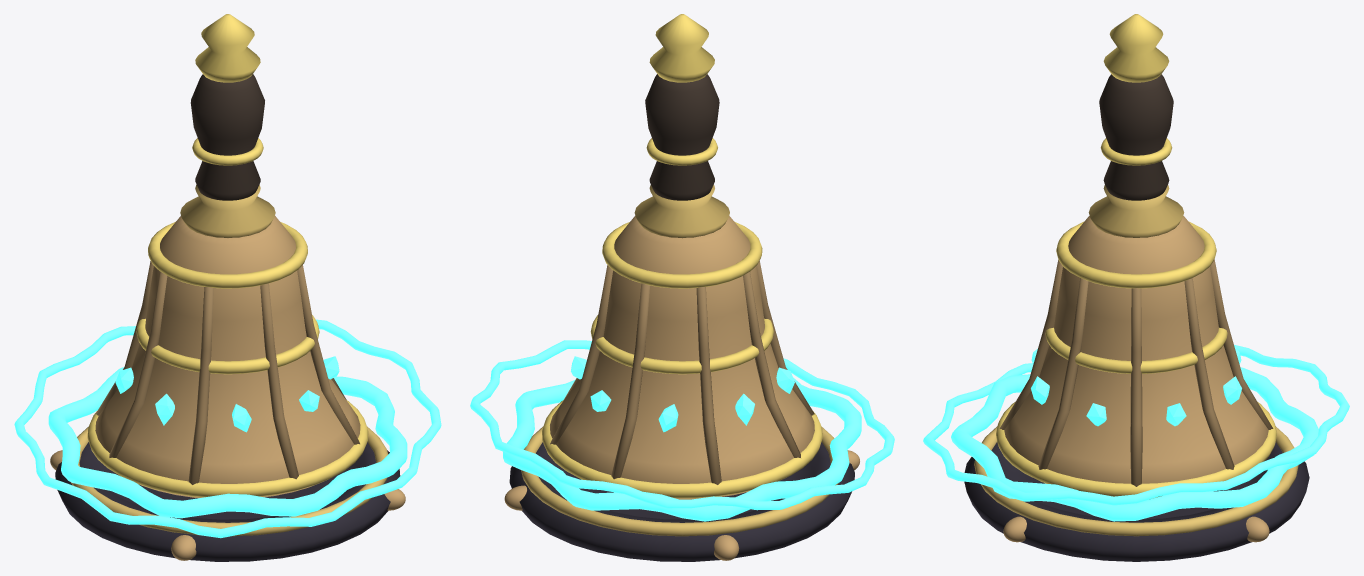
The model's file is TRELIC_SOUL_BELL.glb.
The picture shows the model from 3 angles, left to right: view 1: azimuth 30°, elevation 25°; view 2: azimuth 150°, elevation 25°; view 3: azimuth 270°, elevation 25°; orthographic projection.
Visible parts, largest first — view 1: BellSkirtBody, AcousticBase, ReiatsuSoundRingMain, ReiatsuSoundRingOuter, EbonyHandle, BellRimBead, BronzeNeckCollar, HandleFinial, BellCrownCollar, BaseBrassInlay, BellWaistBead, BellRib_5 (+6 smaller); view 2: BellSkirtBody, AcousticBase, ReiatsuSoundRingMain, ReiatsuSoundRingOuter, EbonyHandle, BaseBrassInlay, BellRimBead, BronzeNeckCollar, HandleFinial, BellCrownCollar, BellWaistBead, BellRib_3 (+6 smaller); view 3: BellSkirtBody, AcousticBase, ReiatsuSoundRingMain, EbonyHandle, ReiatsuSoundRingOuter, BaseBrassInlay, BellRimBead, BronzeNeckCollar, HandleFinial, BellCrownCollar, BellWaistBead, BellRib_0 (+5 smaller).
Boxes of the visible parts, left/top/right/bottom form: BellSkirtBody: left=95, top=216, right=360, bottom=498; AcousticBase: left=55, top=442, right=400, bottom=561; ReiatsuSoundRingMain: left=48, top=367, right=407, bottom=518; ReiatsuSoundRingOuter: left=14, top=319, right=441, bottom=538; EbonyHandle: left=190, top=74, right=264, bottom=200; BellRimBead: left=87, top=400, right=368, bottom=497; BronzeNeckCollar: left=180, top=185, right=275, bottom=237; HandleFinial: left=195, top=14, right=260, bottom=82; BellCrownCollar: left=148, top=221, right=307, bottom=288; BaseBrassInlay: left=71, top=426, right=388, bottom=536; BellWaistBead: left=136, top=315, right=319, bottom=374; BellRib_5: left=188, top=287, right=213, bottom=484; BellSkirtBody: left=550, top=215, right=814, bottom=499; AcousticBase: left=509, top=442, right=854, bottom=561; ReiatsuSoundRingMain: left=503, top=377, right=861, bottom=521; ReiatsuSoundRingOuter: left=470, top=340, right=894, bottom=510; EbonyHandle: left=645, top=74, right=719, bottom=200; BaseBrassInlay: left=521, top=426, right=838, bottom=536; BellRimBead: left=542, top=400, right=822, bottom=498; BronzeNeckCollar: left=634, top=185, right=729, bottom=238; HandleFinial: left=649, top=14, right=714, bottom=82; BellCrownCollar: left=602, top=221, right=762, bottom=288; BellWaistBead: left=590, top=315, right=773, bottom=374; BellRib_3: left=696, top=287, right=721, bottom=484; BellSkirtBody: left=1004, top=216, right=1268, bottom=498; AcousticBase: left=964, top=442, right=1309, bottom=561; ReiatsuSoundRingMain: left=951, top=367, right=1318, bottom=521; EbonyHandle: left=1099, top=74, right=1173, bottom=200; ReiatsuSoundRingOuter: left=923, top=345, right=1349, bottom=505; BaseBrassInlay: left=974, top=426, right=1298, bottom=536; BellRimBead: left=996, top=402, right=1276, bottom=497; BronzeNeckCollar: left=1088, top=185, right=1184, bottom=237; HandleFinial: left=1103, top=14, right=1169, bottom=82; BellCrownCollar: left=1056, top=221, right=1216, bottom=288; BellWaistBead: left=1045, top=327, right=1227, bottom=373; BellRib_0: left=1130, top=288, right=1142, bottom=486.
Bounding box in the file's own units: 0.1433 × 0.176 × 0.1431.
